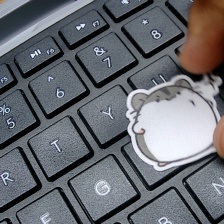mouse: (126, 68, 224, 168)
